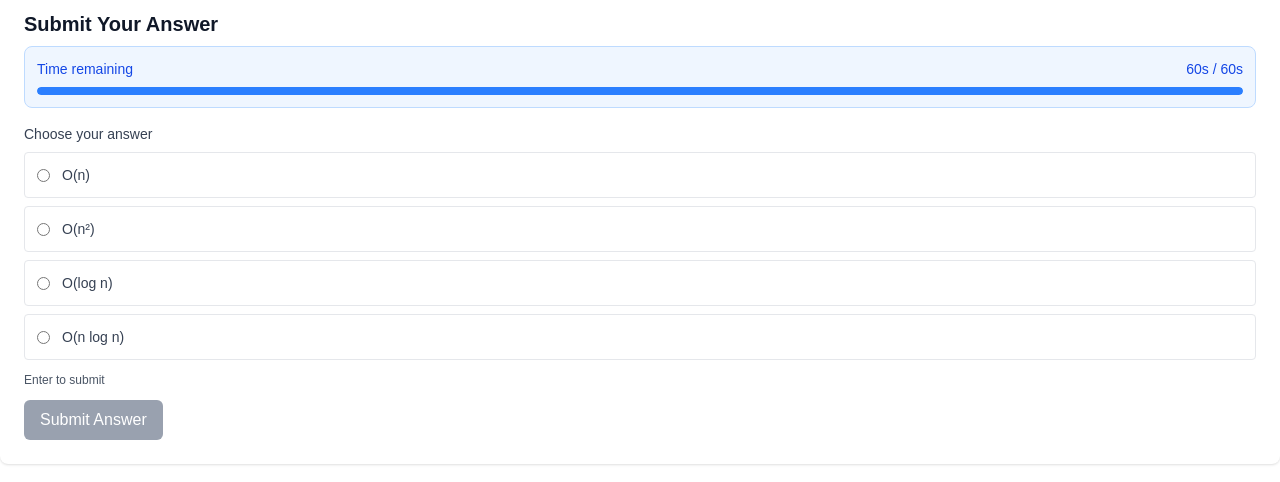
Test: MultipleChoiceForm › should enable submit button after selecting an option
The image size is (1280, 482).
Click the radio button labelled "O(n)" at (44, 175), box [37, 168, 50, 182]
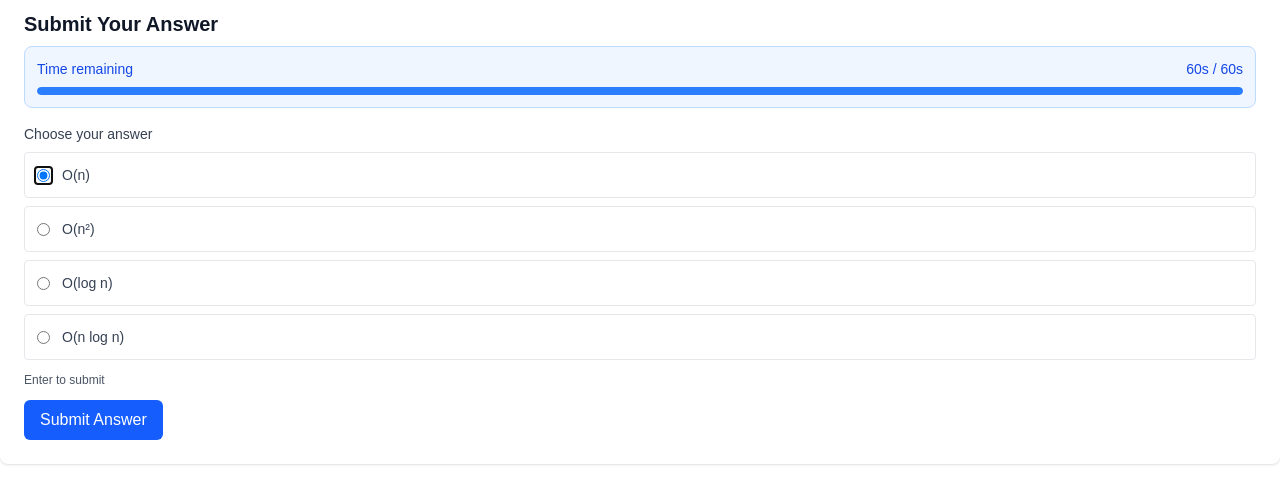
Expected: the button "Submit Answer" is enabled, [24, 400, 163, 440]
